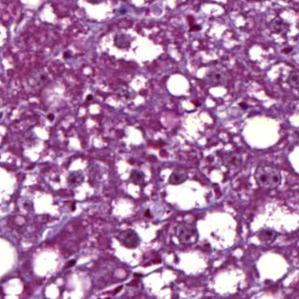steatosis: (243, 117, 284, 149)
